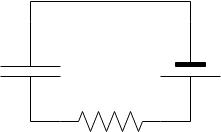Capacitor: (4, 44, 79, 86)
